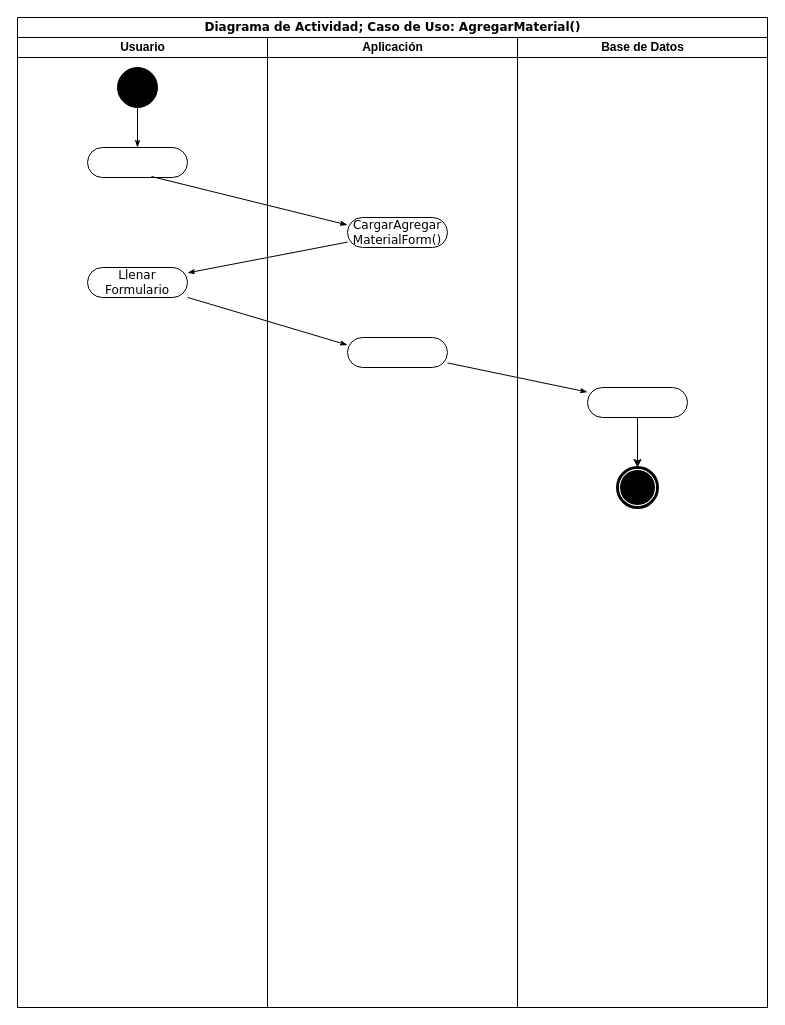
Some shapes in this 785 by 1025 pixel diagram are drawn without their labels. The centre of each missing label's shape, as x and y in pixels:
"agregarMaterial()" belongs at point 137,162.
"Enviar Datos (query)" belongs at point 397,352.
"Registrar Material" belongs at point 637,402.
